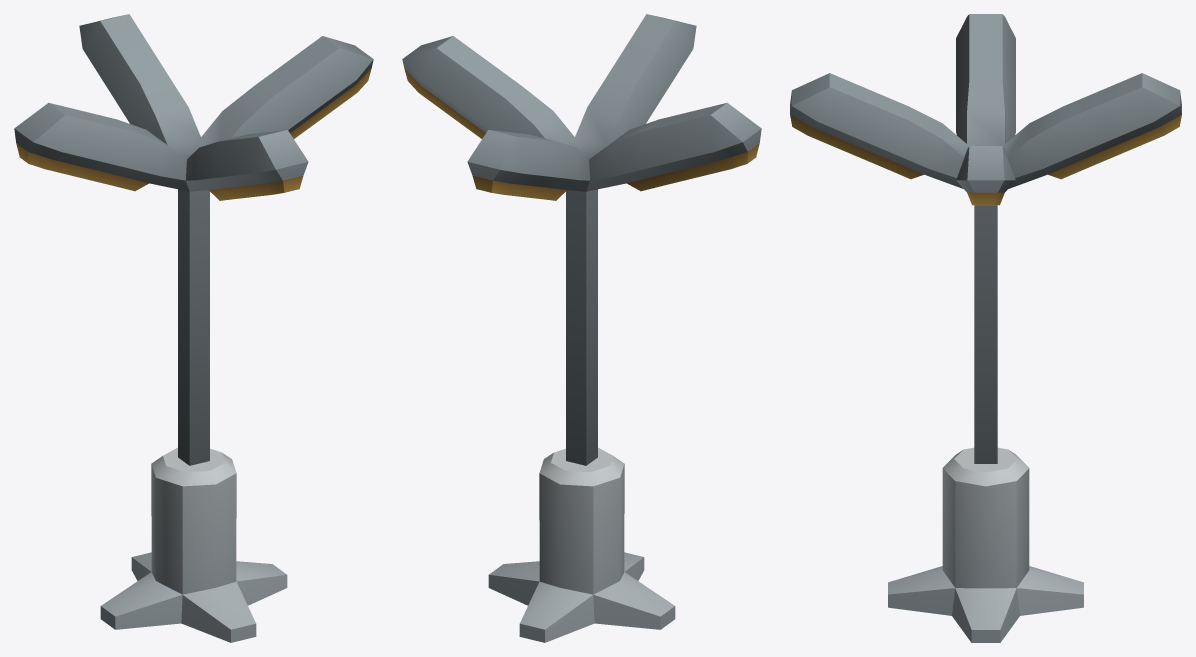
File: space-lights.glb
3 views of the same model, side by side, from view 1: azimuth 30°, elevation 25°; view 2: azimuth 150°, elevation 25°; view 3: azimuth 270°, elevation 25° (orthographic).
Visible parts, largest first — view 1: lights; view 2: lights; view 3: lights.
Boxes of the visible parts, <box> form: lights: <box>14,14,373,642</box>; lights: <box>402,14,761,642</box>; lights: <box>790,14,1181,642</box>.
Bounding box in the file's own units: 0.68 × 0.9984 × 0.68.
